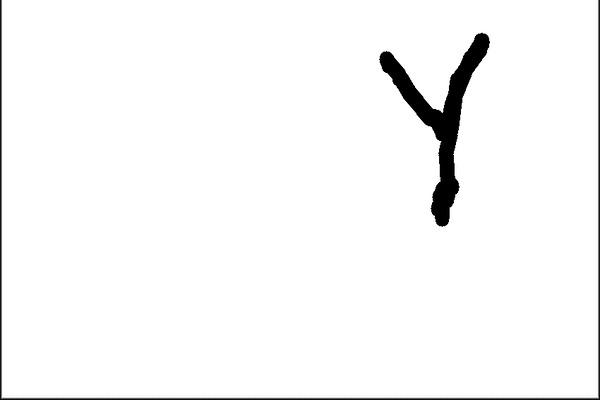Y: (370, 28, 497, 228)
